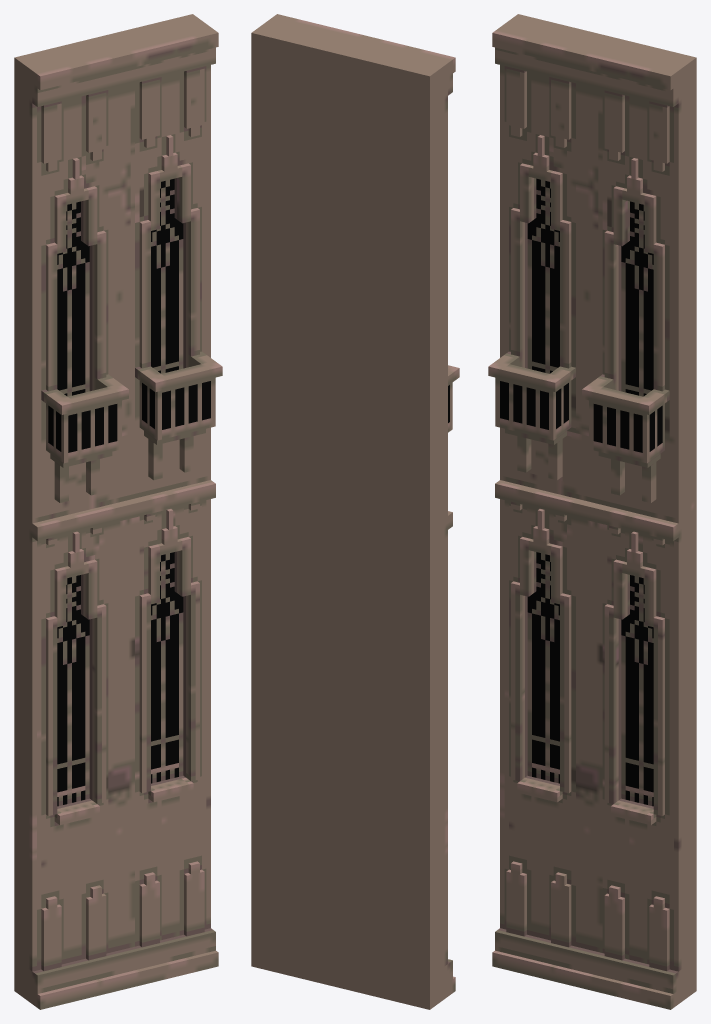
The model's file is Wall_Large_Window.fbx.
The picture shows the model from 3 angles, left to right: view 1: azimuth 30°, elevation 25°; view 2: azimuth 150°, elevation 25°; view 3: azimuth 330°, elevation 25°; orthographic projection.
Parts seen in each view (by area): view 1: Wall_Large_Window; view 2: Wall_Large_Window; view 3: Wall_Large_Window.
Part boxes in pixels (x1=…): Wall_Large_Window: x1=14, y1=14, x2=222, y2=1009; Wall_Large_Window: x1=251, y1=14, x2=459, y2=1009; Wall_Large_Window: x1=488, y1=14, x2=696, y2=1009.
Bounding box in the file's own units: 200 × 1000 × 75.
